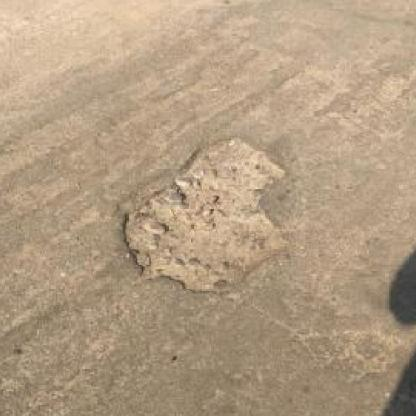pothole: (125, 141, 279, 292)
